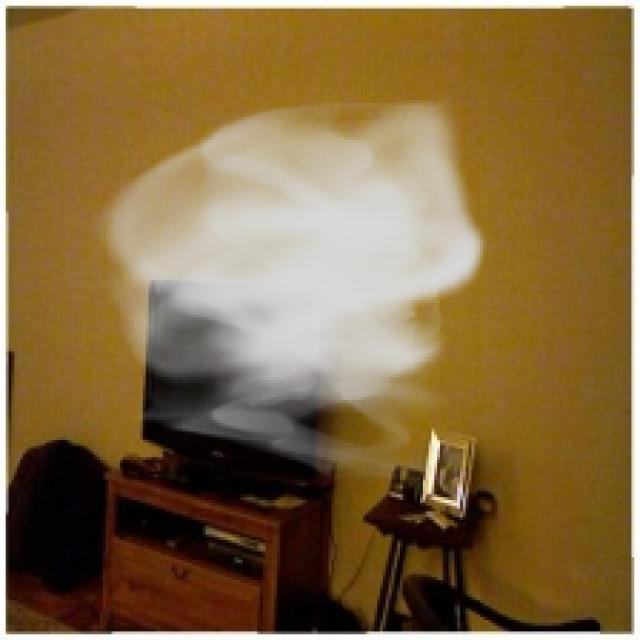smoke: (89, 88, 488, 483)
